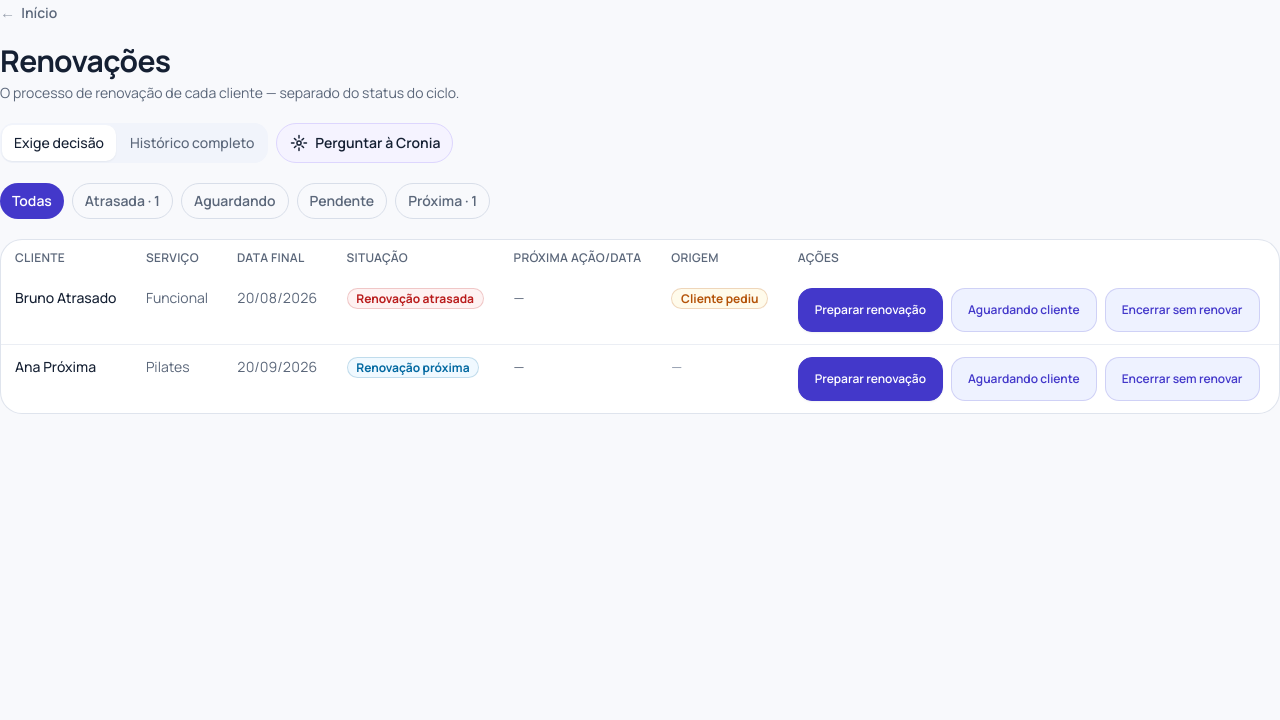
Test: RenewalsPage — só o que exige decisão por padrão, nunca duplica a Central de Ciclos › ending a case without renewal requires a reason
Click the button "Encerrar sem renovar" in the row of "Bruno Atrasado". click: (1182, 310)
box: [1105,288,1260,332]
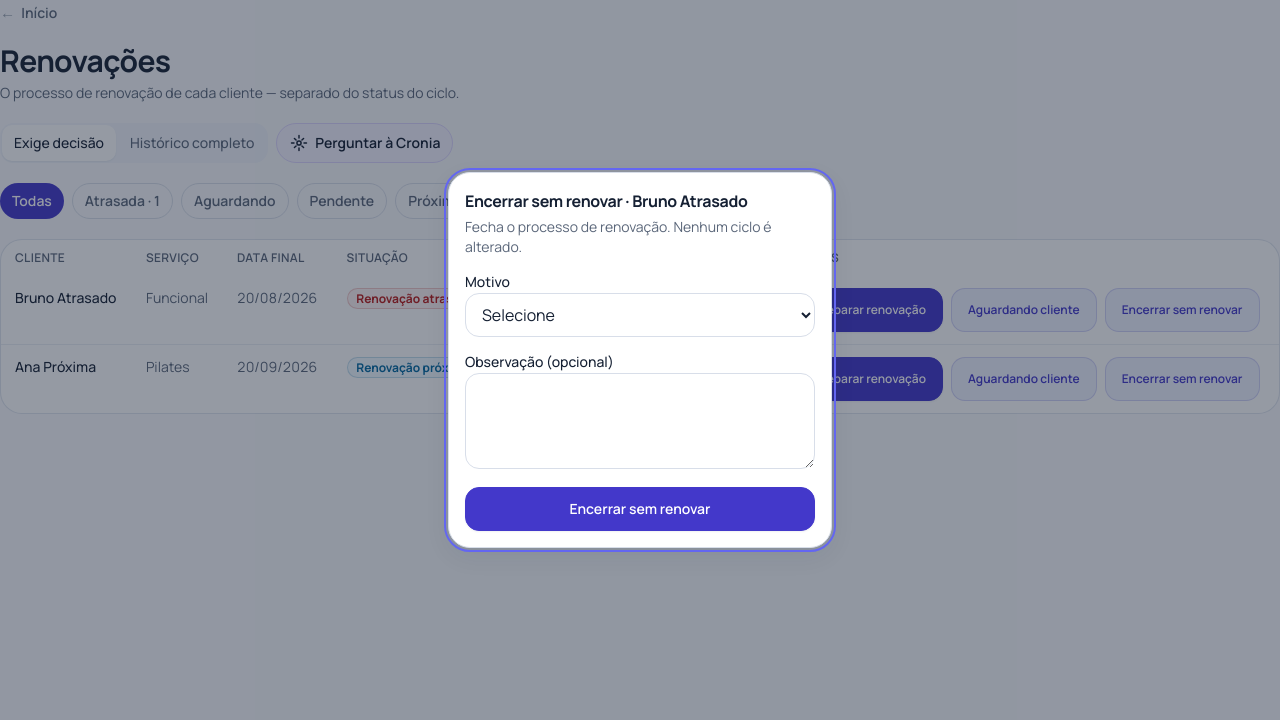
Click the button "Encerrar sem renovar". click: (640, 509)
box: [465,487,815,531]
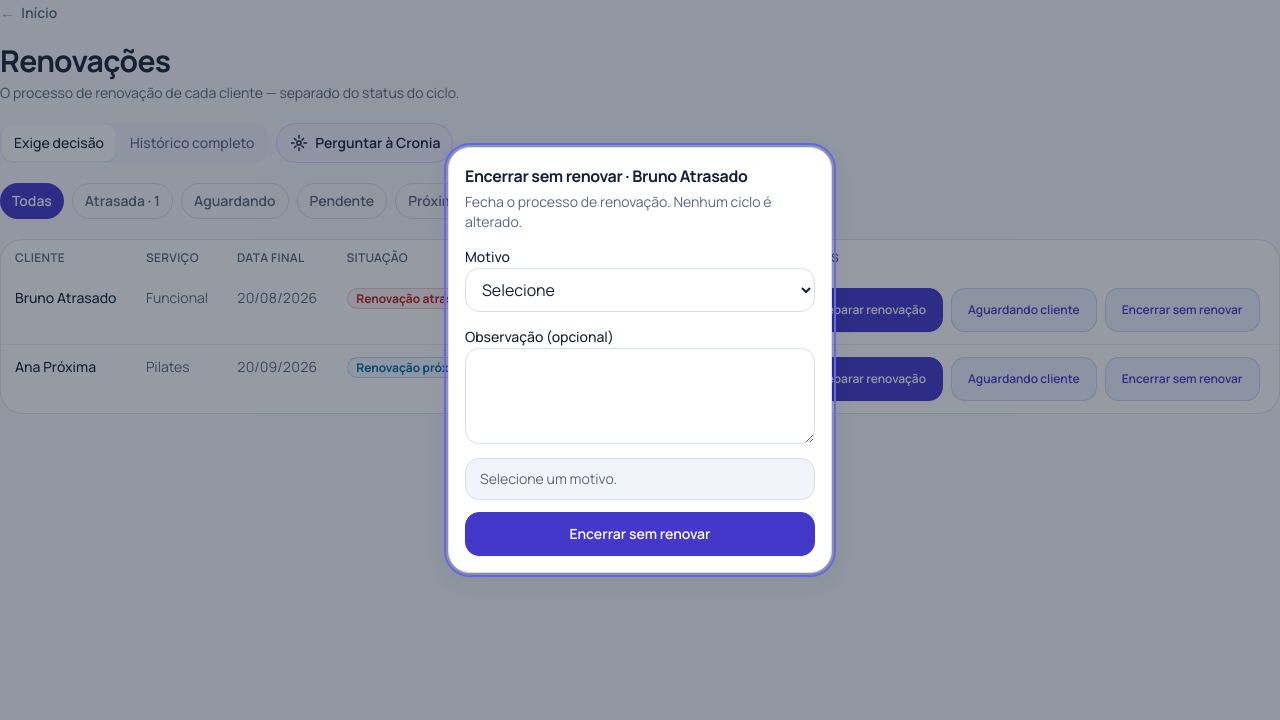
Expected: the text "Selecione um motivo." is shown, [480,469,617,489]
